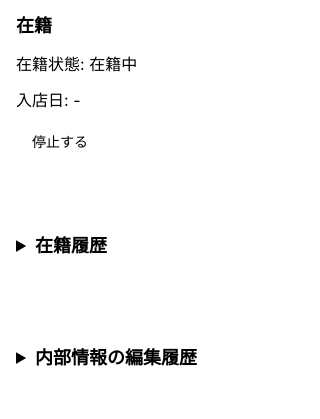
it: 履歴は初期状態で折り畳み、開くと読める
Click the heading "在籍履歴". click: (71, 246)
box: [35,235,107,256]
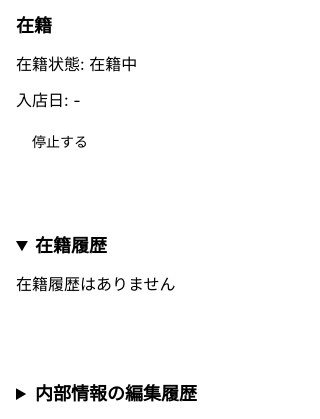
expect the text "在籍履歴はありません" is shown: met, box [16,274,176,294]
